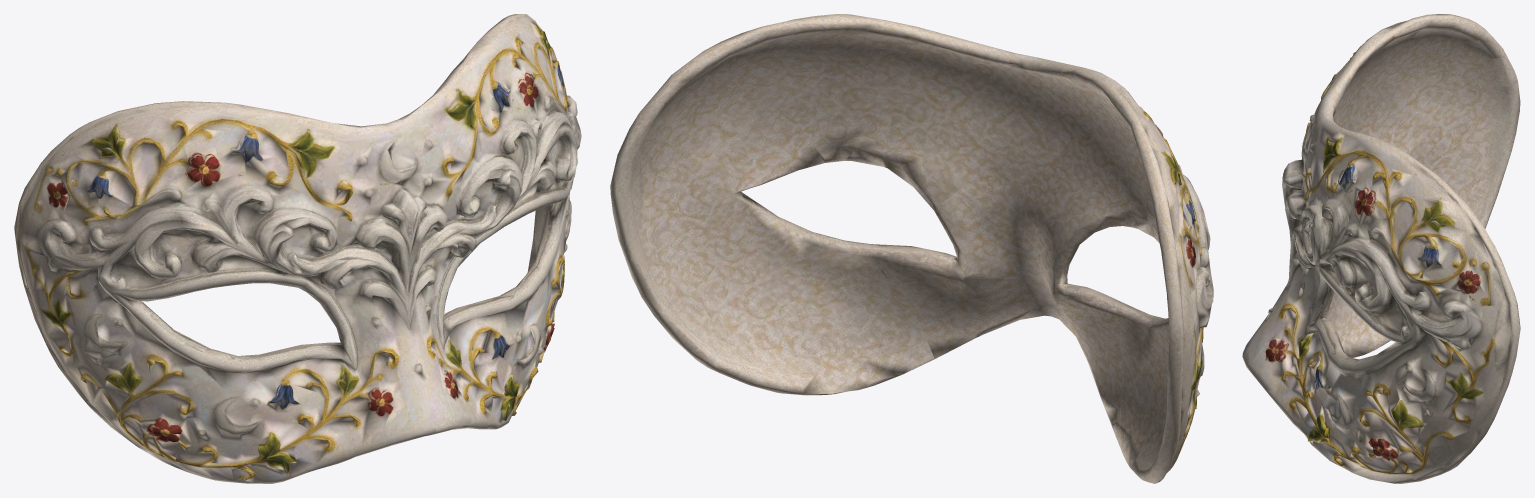
The picture shows the model from 3 angles, left to right: view 1: azimuth 30°, elevation 25°; view 2: azimuth 150°, elevation 25°; view 3: azimuth 270°, elevation 25°; orthographic projection. The views are drawn at different scales.
Size of the model in its own units: 1.9 by 1.24 by 0.9524.
Materials: 1 (1 with a texture image).
